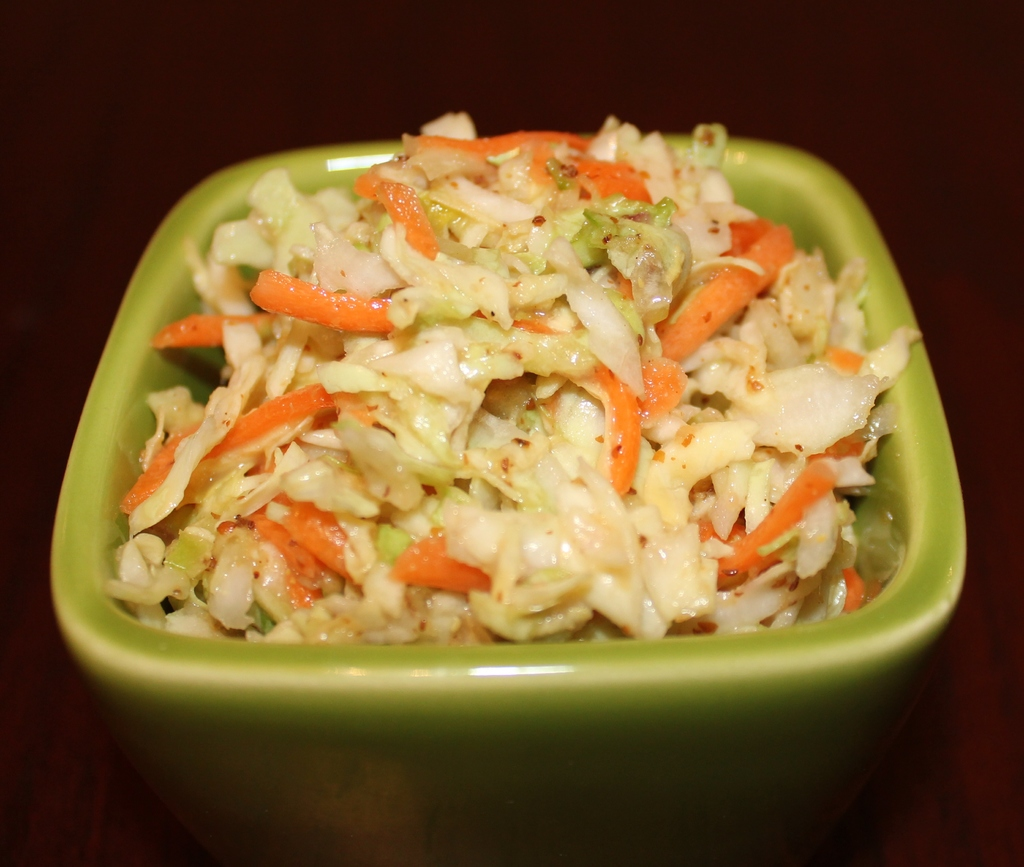Cabbage: (101, 112, 922, 643)
